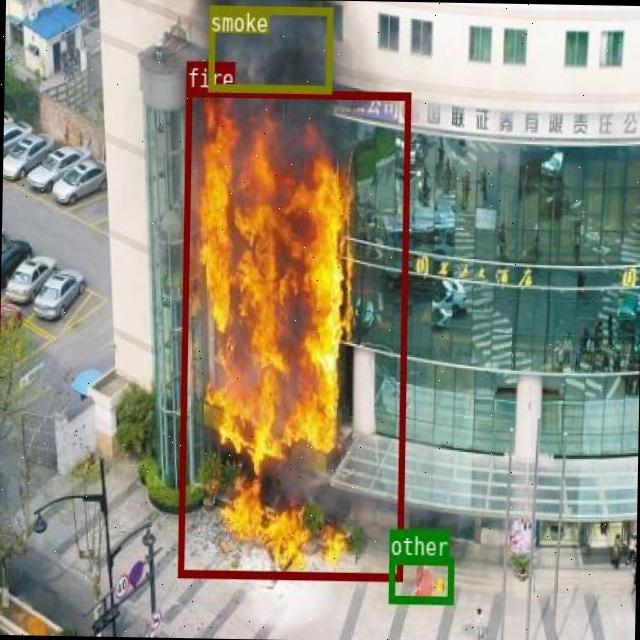fire: (178, 86, 409, 578)
smoke: (208, 3, 332, 91)
